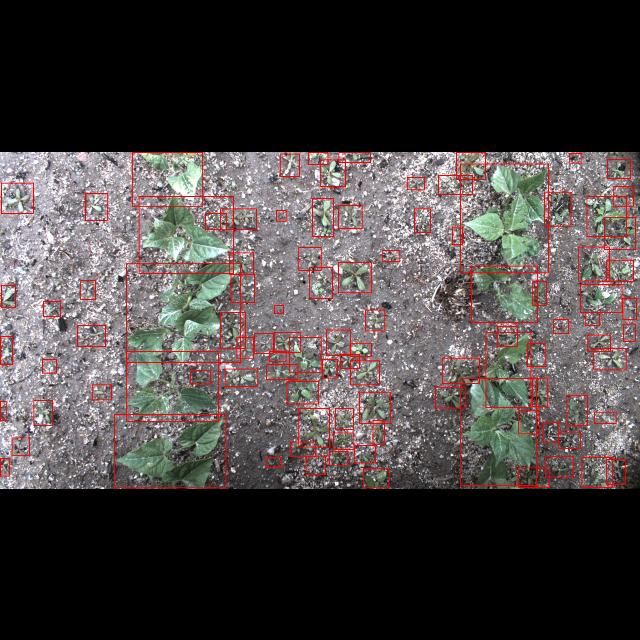crop: (126, 264, 240, 362), (460, 162, 548, 272), (114, 414, 226, 488), (460, 378, 536, 486), (138, 195, 234, 272), (127, 351, 219, 422), (471, 264, 537, 322), (132, 151, 202, 205), (486, 331, 530, 407)
weed: (587, 196, 627, 236), (298, 408, 329, 447), (580, 284, 622, 312), (578, 246, 610, 280), (290, 336, 320, 372), (604, 216, 636, 248), (338, 262, 372, 292), (1, 182, 33, 212), (220, 312, 246, 348), (442, 358, 480, 382), (360, 392, 390, 422), (582, 457, 612, 487), (545, 191, 571, 225), (312, 198, 333, 236), (456, 152, 486, 178), (286, 381, 318, 404), (320, 158, 346, 186), (221, 208, 257, 228), (350, 360, 380, 384), (310, 266, 332, 298), (594, 348, 626, 370), (231, 274, 255, 302), (438, 174, 472, 193), (518, 467, 550, 487), (436, 387, 466, 408), (85, 192, 107, 220), (77, 324, 105, 346), (606, 259, 634, 281), (567, 395, 587, 425), (225, 368, 258, 386), (326, 330, 350, 354), (545, 456, 573, 476), (338, 205, 362, 228), (229, 252, 253, 274), (274, 332, 300, 352), (606, 458, 626, 484), (266, 364, 298, 380), (299, 247, 321, 270), (364, 468, 388, 488), (532, 378, 548, 407), (280, 152, 300, 175), (519, 411, 539, 434), (608, 158, 630, 178), (34, 400, 52, 424), (527, 342, 545, 366), (365, 310, 385, 330), (254, 333, 274, 353), (613, 185, 633, 205), (497, 326, 517, 346), (354, 445, 376, 463), (588, 334, 610, 352), (414, 208, 430, 232), (206, 212, 227, 230), (335, 408, 353, 429), (236, 337, 254, 358), (290, 442, 316, 456), (1, 284, 16, 308), (306, 456, 326, 474), (558, 432, 580, 448), (0, 336, 12, 364), (532, 281, 546, 305), (80, 279, 96, 299), (92, 384, 112, 400), (322, 358, 338, 378), (334, 433, 354, 449), (338, 151, 369, 161), (623, 297, 637, 319), (351, 342, 372, 356), (340, 354, 360, 368), (328, 451, 348, 465), (190, 370, 210, 384), (544, 422, 558, 442), (372, 420, 383, 444), (594, 411, 616, 423), (44, 300, 60, 316), (12, 438, 28, 454), (308, 151, 328, 163), (584, 311, 600, 325), (554, 318, 568, 334), (407, 177, 425, 189), (624, 324, 636, 341), (268, 351, 286, 362), (42, 359, 56, 373), (0, 458, 10, 476), (452, 226, 462, 244), (382, 250, 400, 260), (266, 457, 280, 467), (568, 152, 582, 162), (0, 402, 6, 421), (276, 210, 286, 220), (274, 304, 284, 314)
